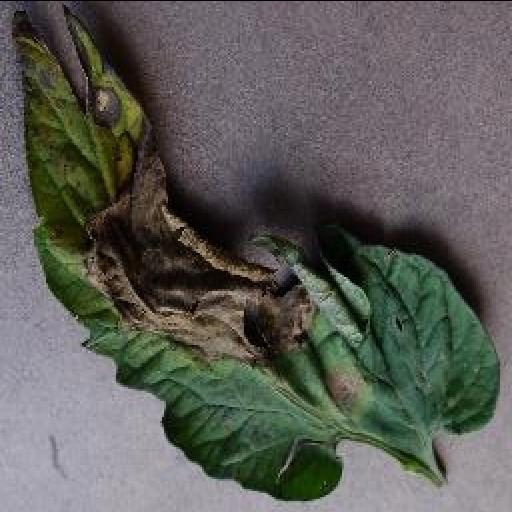disease_tomato: (5, 0, 499, 502)
